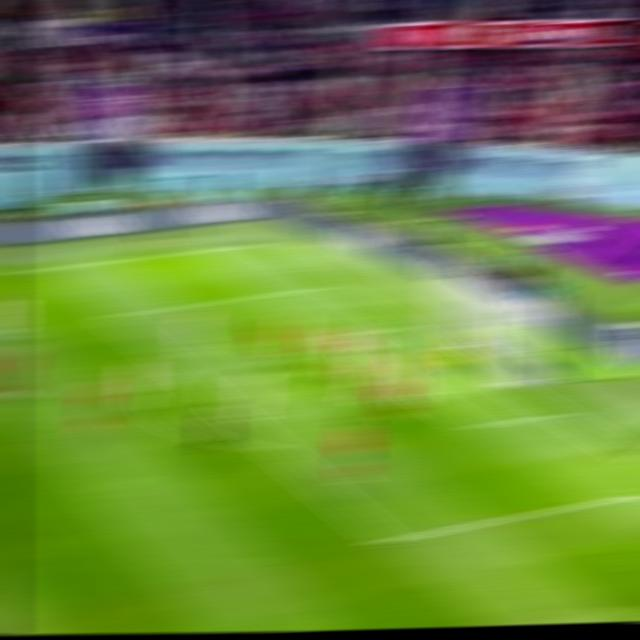bigarea_bottom_inner: (372, 534, 401, 549)
bigarea_top_inner: (98, 311, 124, 325)
bigarea_top_outter: (316, 281, 341, 292)
bottom_arc_area_intersection: (259, 440, 286, 457)
corner: (236, 242, 265, 249)
smallarea_bottom_inner: (457, 421, 486, 434)
smallarea_bottom_outter: (543, 409, 571, 419)
smallarea_top_inner: (317, 333, 342, 342)
smallarea_top_outter: (386, 322, 412, 331)
top_arc_area_intersection: (164, 364, 190, 379)
